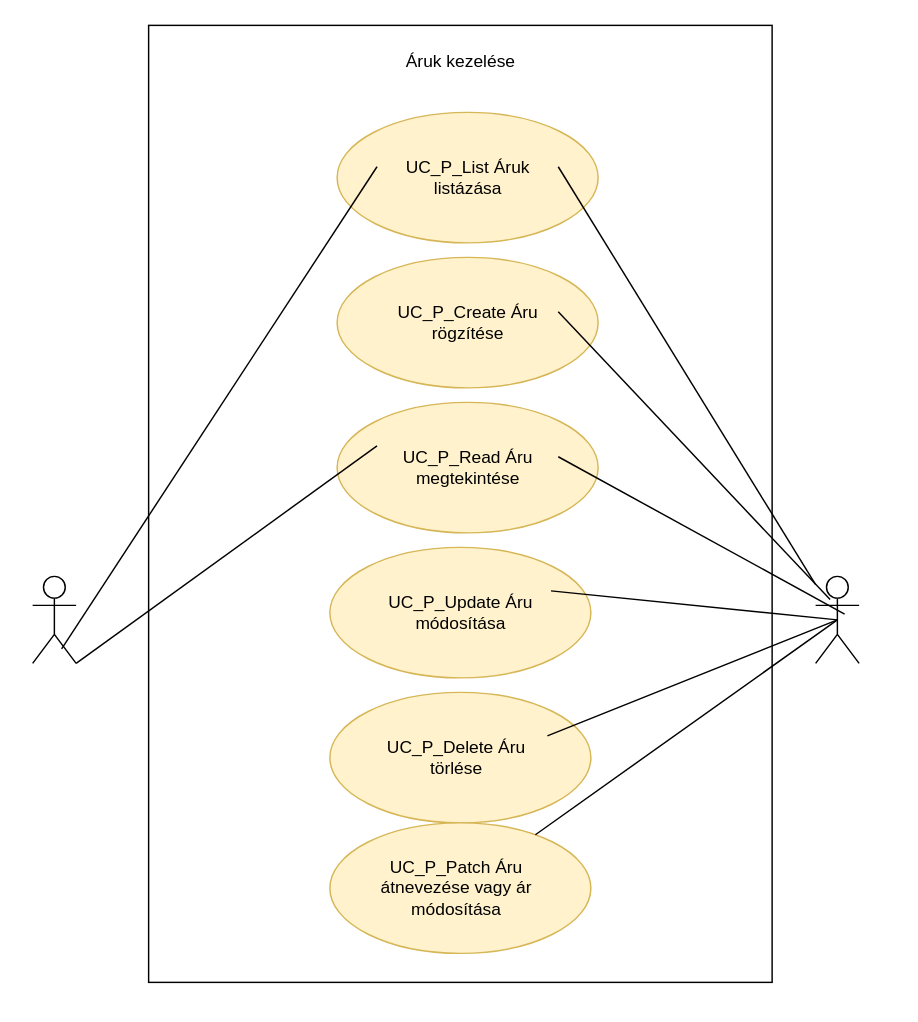
This 918x1022 diagram has some shape labels left out. Each missing label, with the box of its shape:
Adminisztrátor: (814, 575, 859, 663)
Vásárló: (31, 575, 76, 663)
